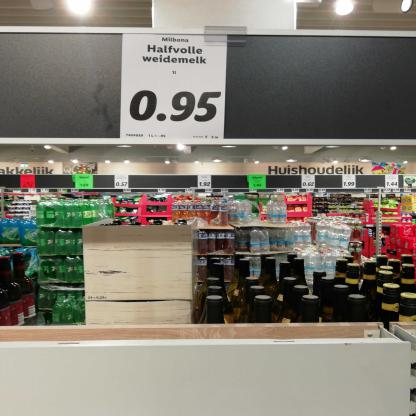prtg: (121, 34, 228, 140)
